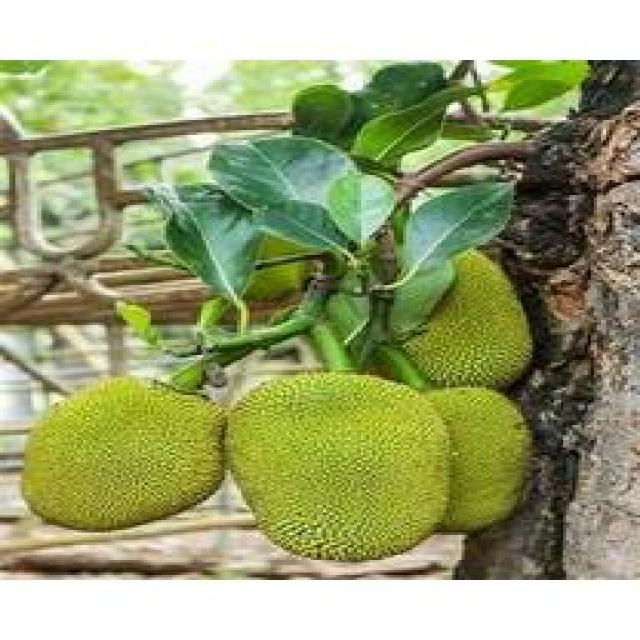Fruit: (218, 355, 548, 575), (9, 362, 234, 540), (384, 245, 548, 403)
